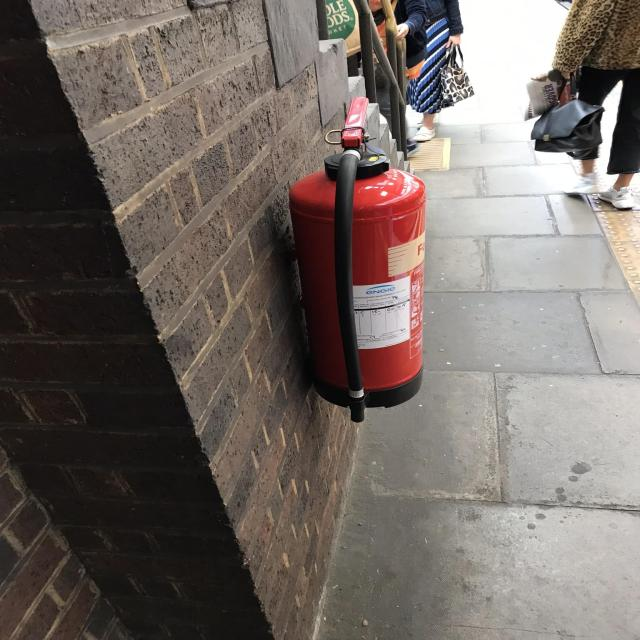fire_extinguisher: (281, 94, 429, 428)
